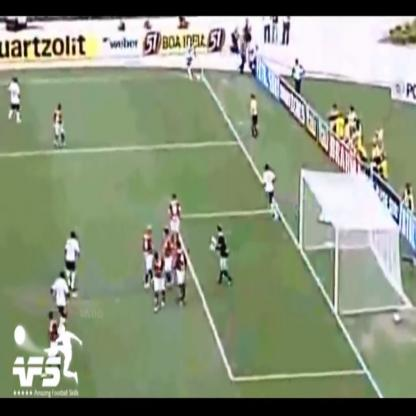corner kick: (170, 33, 235, 134)
